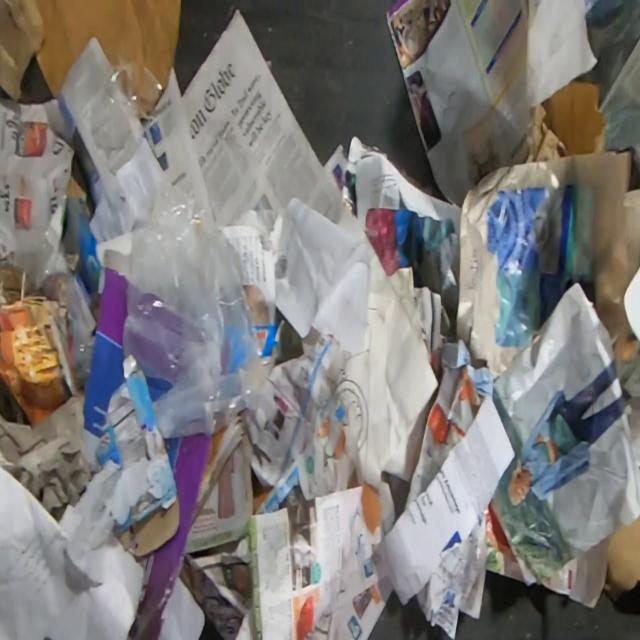cardboard: (0, 0, 182, 101), (124, 437, 212, 639), (95, 355, 181, 559), (0, 261, 80, 434), (82, 250, 130, 472), (62, 176, 105, 328), (602, 513, 640, 602), (144, 372, 172, 401)
rigid_plastic: (88, 63, 167, 153)
soft_plastic: (120, 171, 268, 439), (34, 226, 94, 389)
